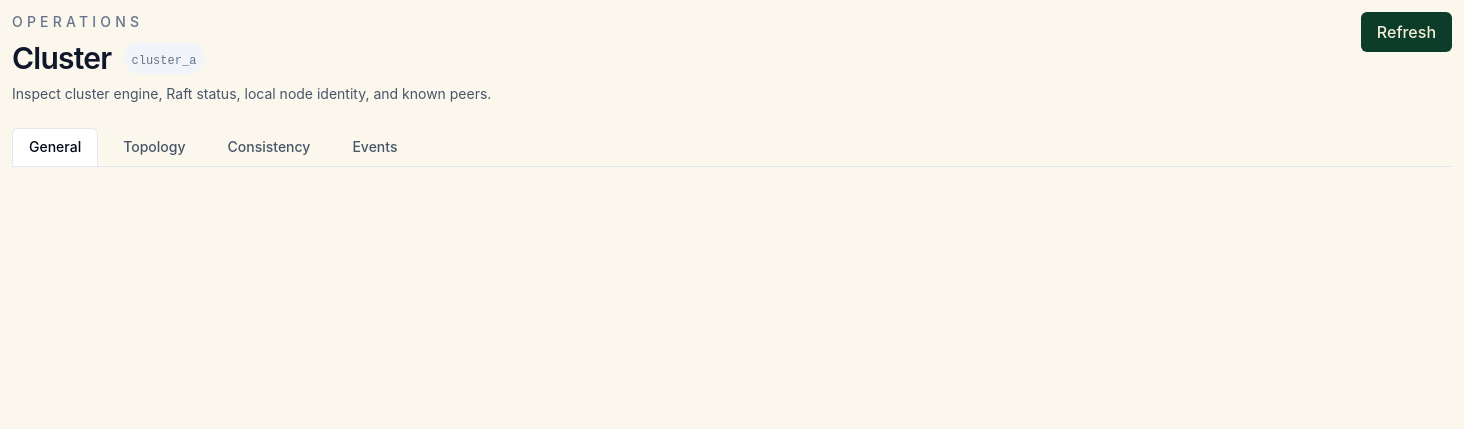
Scenario: ClusterPage › renders clustered overview and tabbed cluster sections
expect the heading "Cluster" is shown: met, box [12,40,112,76]
Click the tab "Topology" at {"x": 154, "y": 147}, box [106,128,202,166]
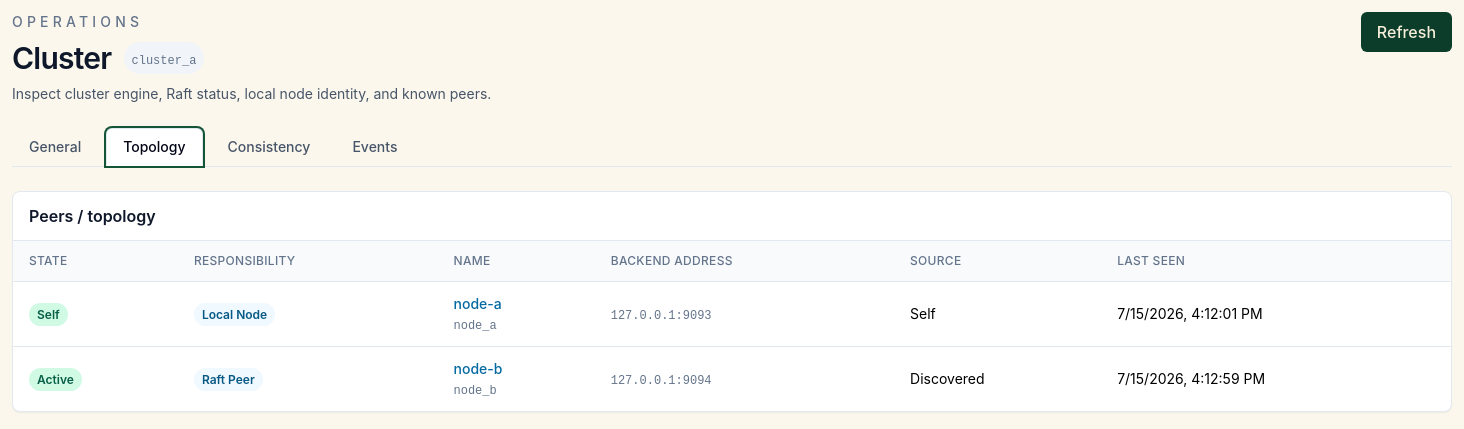
expect the link "node-b" is shown: met, box [454,360,502,377]
expect the text "127.0.0.1:9094" is shown: met, box [611,374,712,388]
expect the text "Local Node" is shown: met, box [194,303,275,326]
Click the tab "Events" at {"x": 375, "y": 147}, box [335,128,414,166]
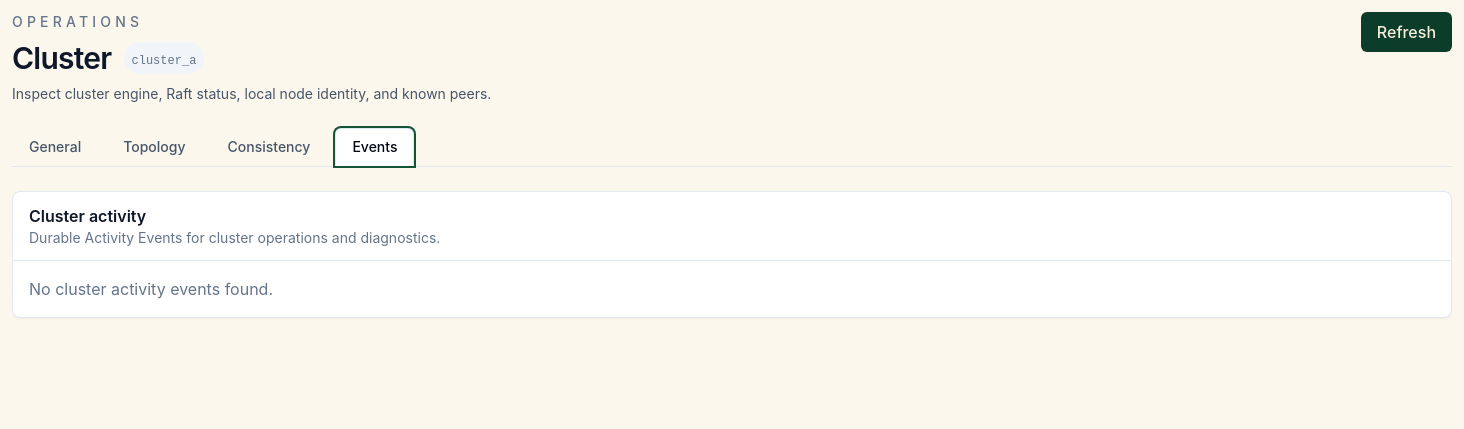
expect the text "Cluster activity" is shown: met, box [29,206,146,226]
expect the text "No cluster activity events found." is shown: met, box [29,279,273,299]
